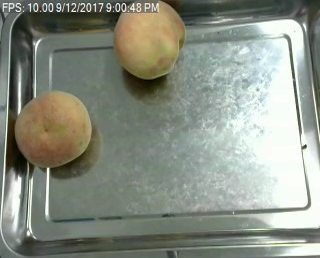Peach: (14, 88, 93, 168), (113, 0, 185, 80)
